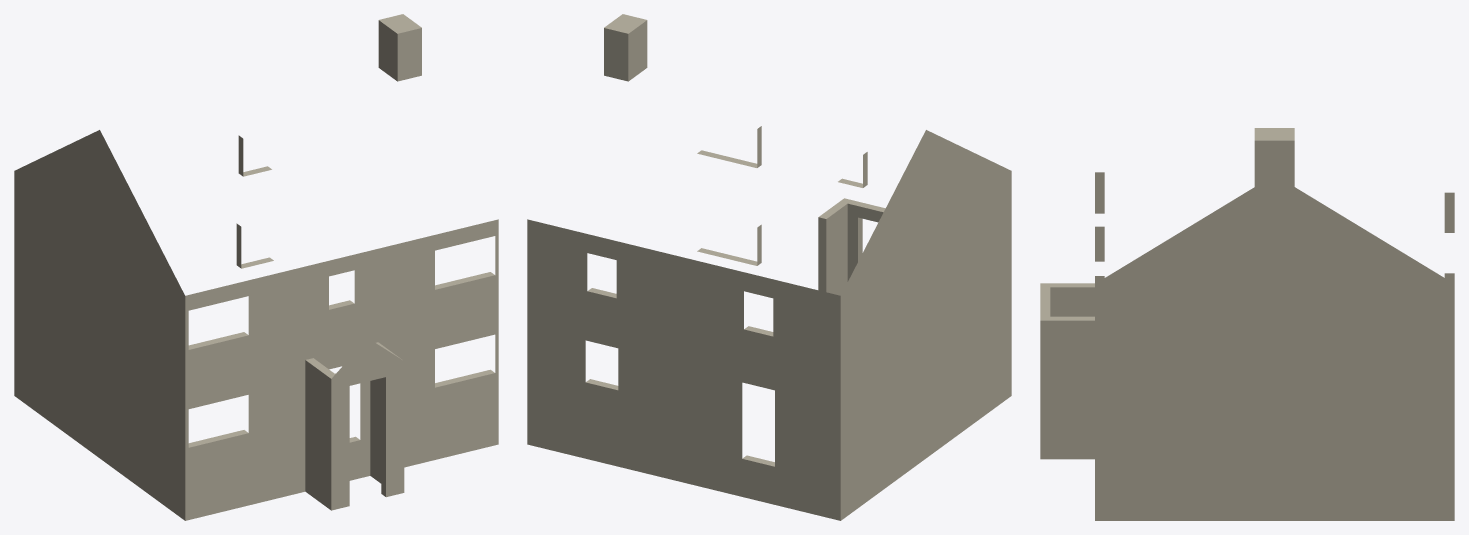
File: SM_Bld_092_Render.glb
The picture shows the model from 3 angles, left to right: view 1: azimuth 30°, elevation 25°; view 2: azimuth 150°, elevation 25°; view 3: azimuth 270°, elevation 25°; orthographic projection. The views are drawn at different scales.
Visible parts, largest first — view 1: SM_Bld_092_Render; view 2: SM_Bld_092_Render; view 3: SM_Bld_092_Render.
Boxes of the visible parts, bbox=[...] form: SM_Bld_092_Render: bbox=[14, 14, 498, 520]; SM_Bld_092_Render: bbox=[527, 14, 1011, 520]; SM_Bld_092_Render: bbox=[1040, 128, 1454, 520].
Bounding box in the file's own units: 8.59 × 9.46 × 9.34.
